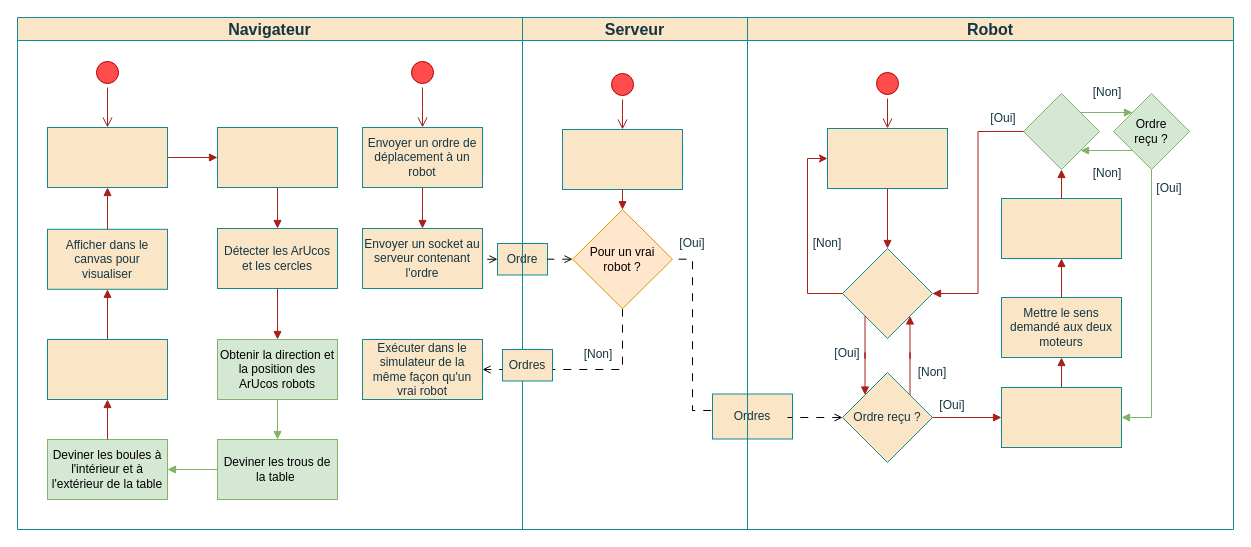
Image size: 1251x547. Some labels were removed from this diagram. Here are the shapes that lost their labels. From the top down, the box of each, then its label:
(1022, 92, 1100, 170): Ordre terminé ?
(46, 126, 168, 188): Récupérer les images de la caméra
(216, 126, 338, 188): Prétraiter l'image
(562, 128, 682, 190): Démarrer le serveur
(826, 128, 948, 188): Connexion au réseau
(1000, 198, 1122, 258): Exécuter la requête pendant la durée indiquée
(842, 248, 932, 338): Toujours connecté ?
(46, 338, 168, 400): Deviner le diametre en pixel d'une boule à l'aide des arucos
(1000, 386, 1122, 448): Mettre la puissance demandée aux deux moteurs
